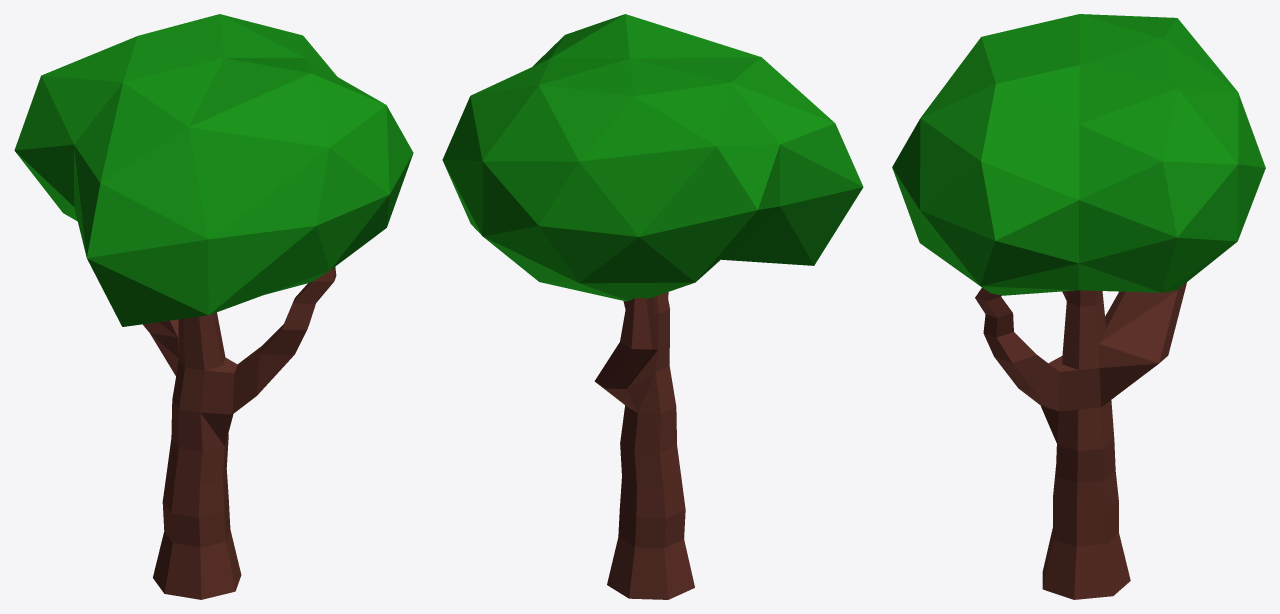
The model's file is tree.fbx.
3 views of the same model, side by side, from view 1: azimuth 30°, elevation 25°; view 2: azimuth 150°, elevation 25°; view 3: azimuth 270°, elevation 25° (orthographic). The views are drawn at different scales.
Parts seen in each view (by area): view 1: Cylinder; view 2: Cylinder; view 3: Cylinder.
Boxes of the visible parts, <box> form: Cylinder: <box>14,14,413,599</box>; Cylinder: <box>442,14,863,599</box>; Cylinder: <box>892,14,1265,599</box>.
Bounding box in the file's own units: 14.75 × 22.03 × 14.04.
